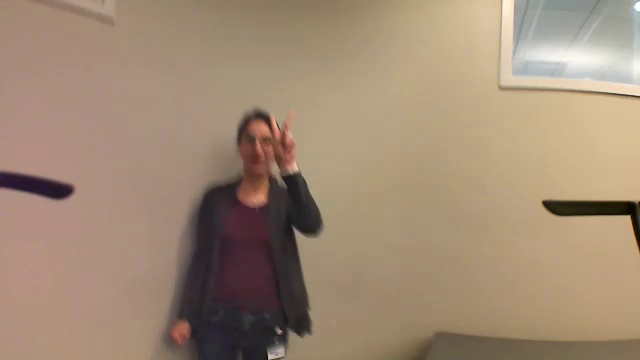peace: (264, 105, 304, 167)
